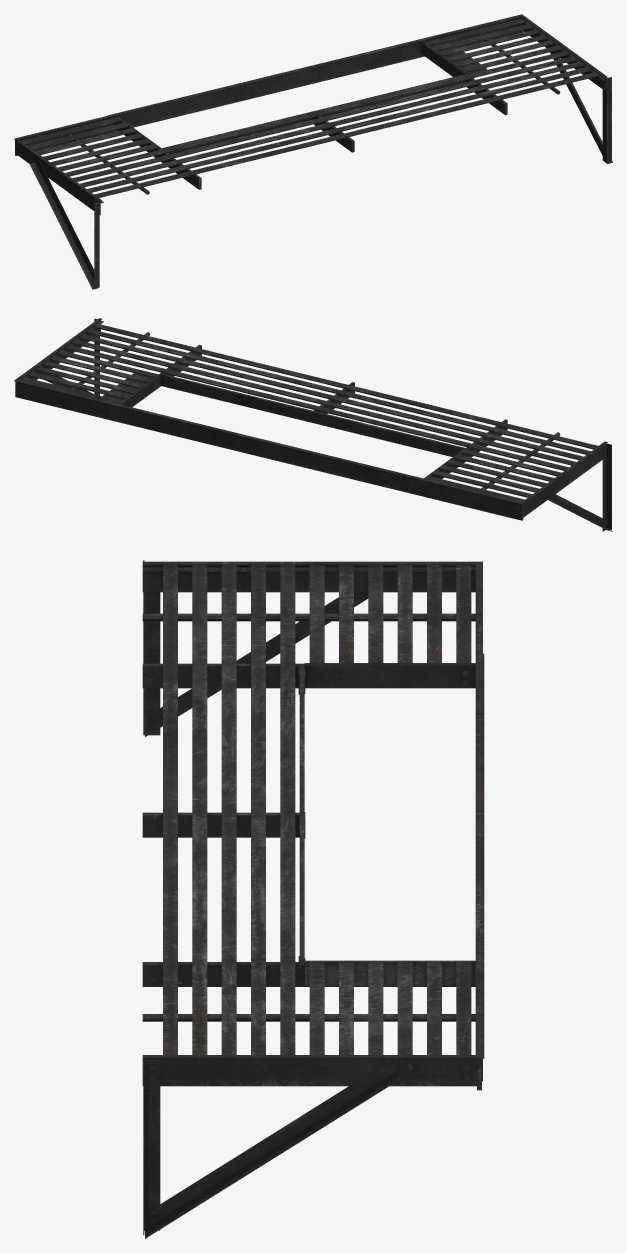
Rendered from fire_escape_platform_middle.glb.
The picture shows the model from 3 angles, top to bottom: view 1: azimuth 30°, elevation 25°; view 2: azimuth 150°, elevation 25°; view 3: azimuth 270°, elevation 25°; orthographic projection. The views are drawn at different scales.
Visible parts, largest first — view 1: fire_escape_platform_middle; view 2: fire_escape_platform_middle; view 3: fire_escape_platform_middle.
Part boxes in pixels (x1,y1,x2,y2): fire_escape_platform_middle: [14, 14, 612, 289]; fire_escape_platform_middle: [14, 318, 612, 531]; fire_escape_platform_middle: [142, 560, 484, 1238].
Size of the model in its own units: 4.79 by 0.7724 by 1.36.
1 material, 1 textured.
